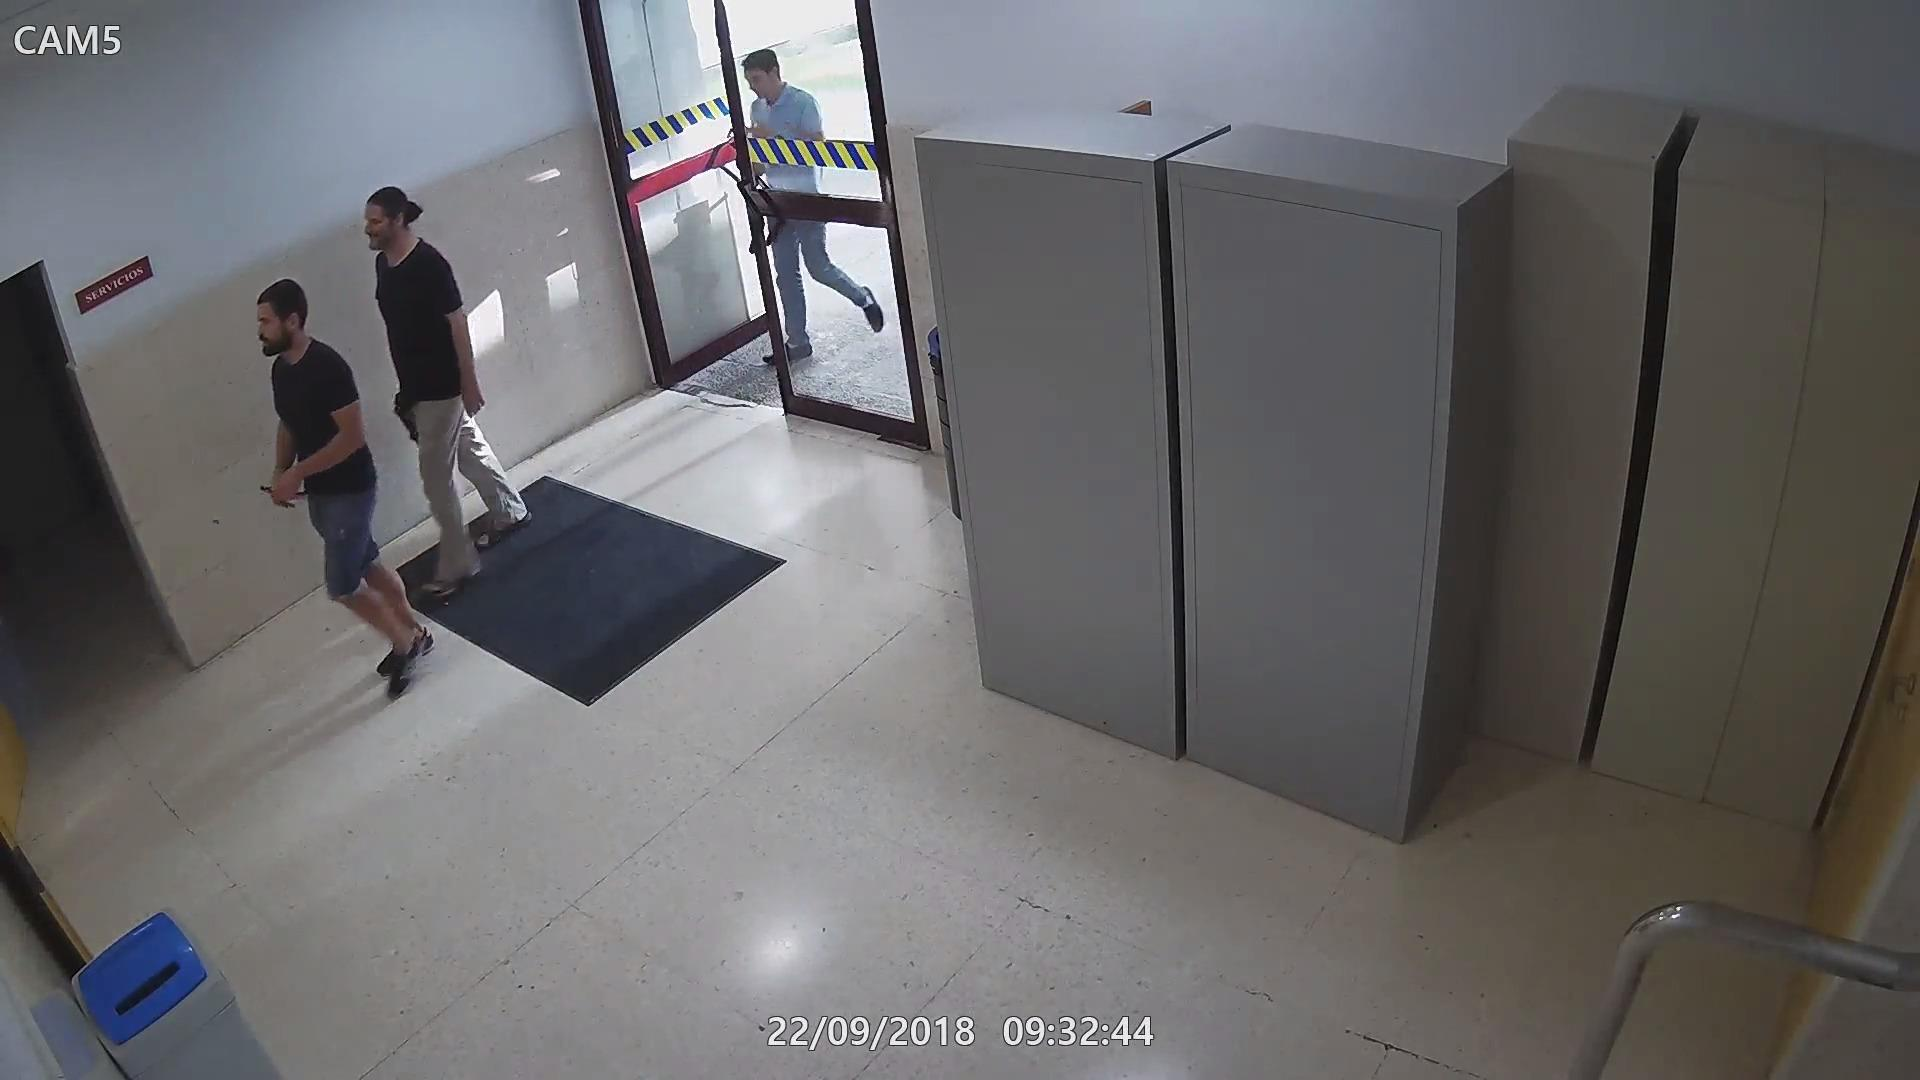Handgun: (255, 479, 324, 516)
